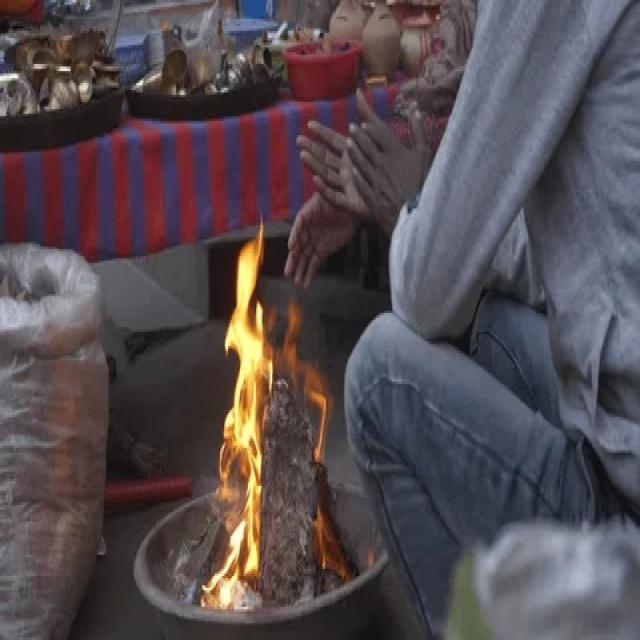fire: (200, 213, 274, 612), (303, 361, 330, 459), (315, 506, 348, 579), (285, 298, 301, 394)
